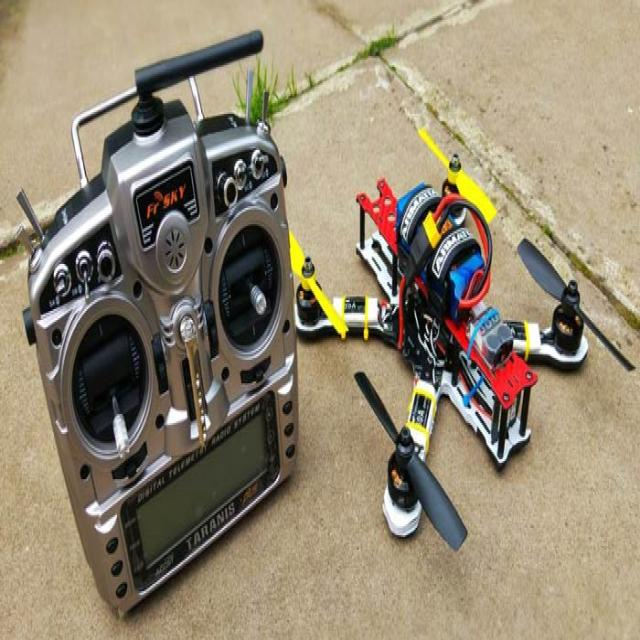drone: (313, 163, 610, 567)
